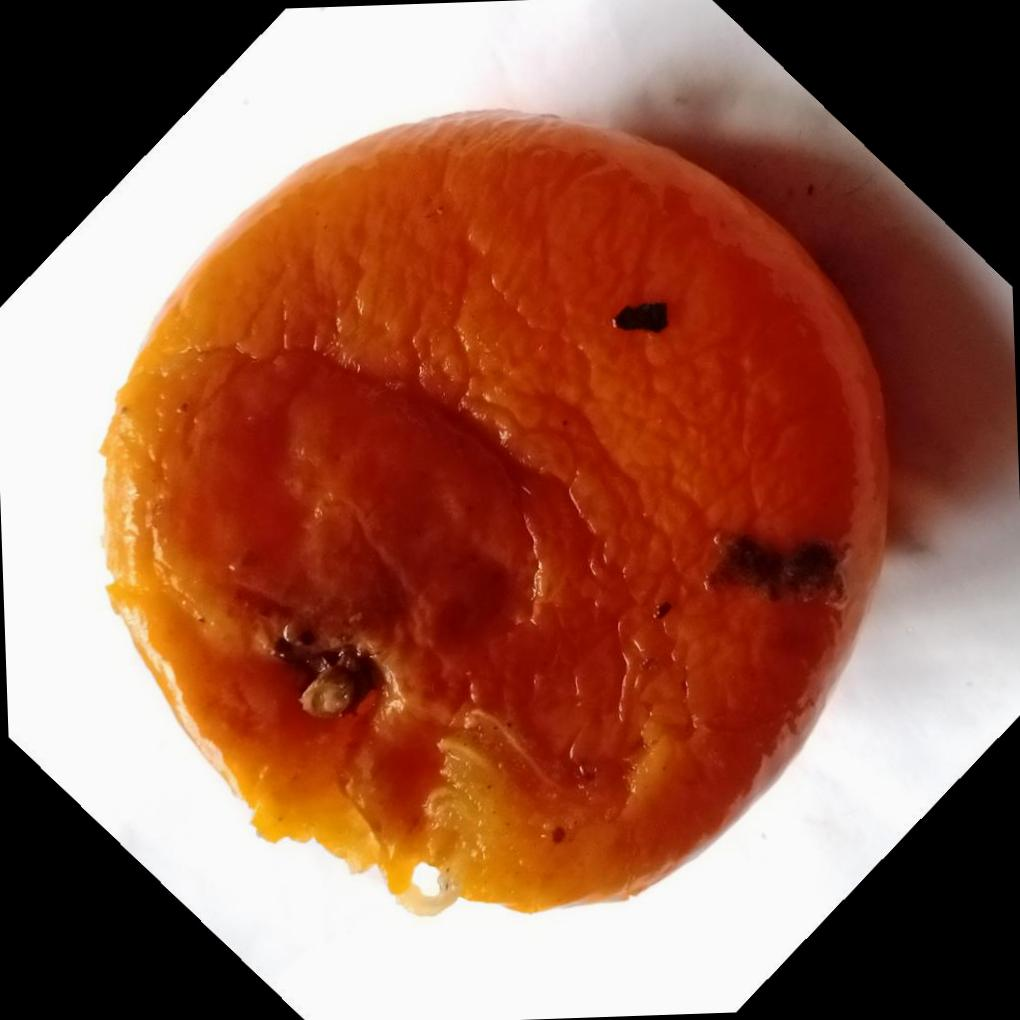FreshOrange: (97, 103, 895, 915)
